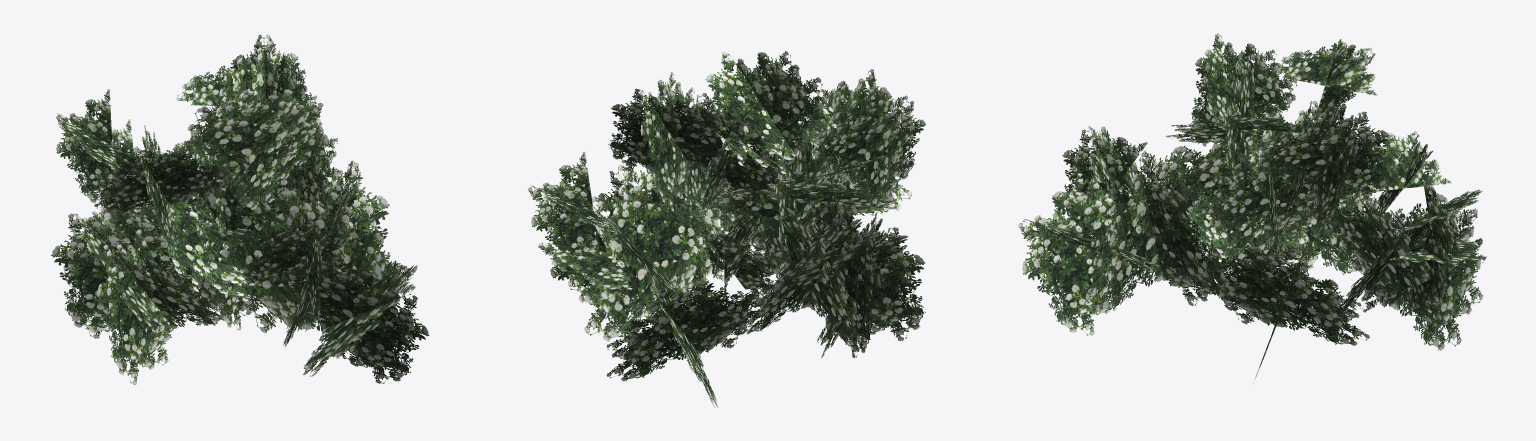
Rendered from rosea lod1.FBX.
3 views of the same model, side by side, from view 1: azimuth 30°, elevation 25°; view 2: azimuth 150°, elevation 25°; view 3: azimuth 270°, elevation 25° (orthographic). The views are drawn at different scales.
Visible parts, largest first — view 1: roseA_LOD2; view 2: roseA_LOD2; view 3: roseA_LOD2.
Boxes of the visible parts, bbox=[...] form: roseA_LOD2: bbox=[51, 34, 429, 384]; roseA_LOD2: bbox=[527, 50, 925, 407]; roseA_LOD2: bbox=[1018, 33, 1486, 383].
Size of the model in its own units: 58760 by 51979 by 76099.
